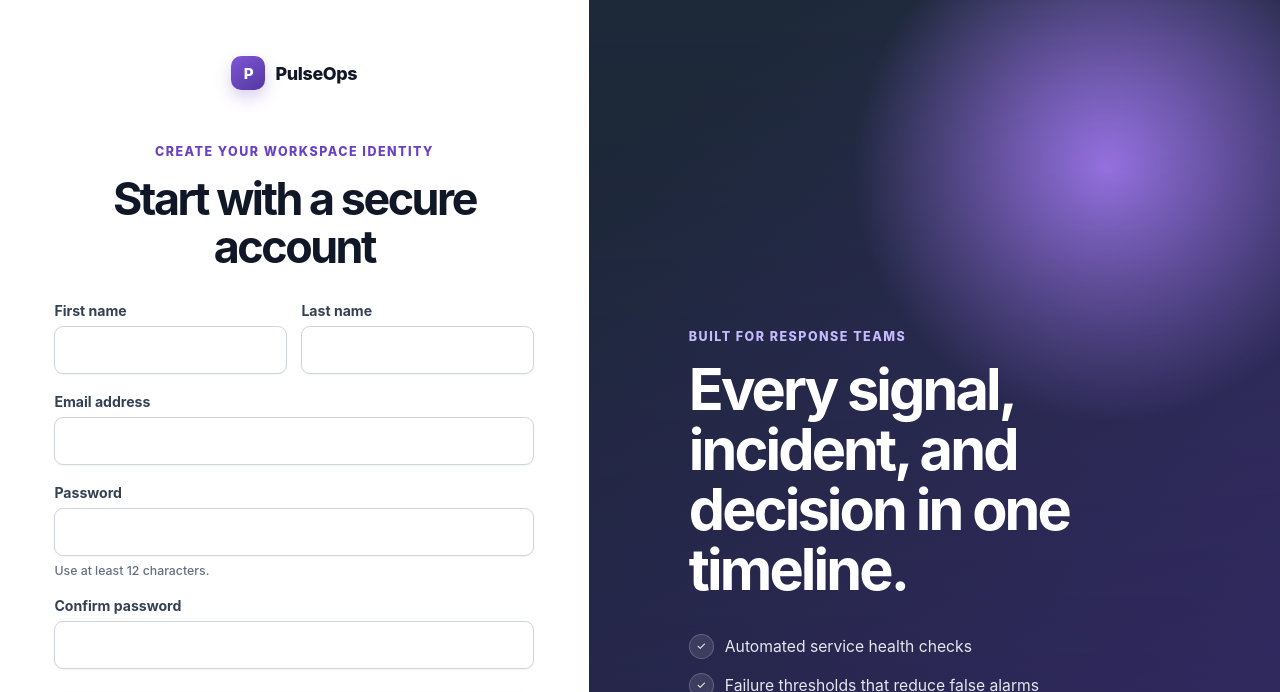
Test case: PulseOps authentication routes › validates password confirmation before registration reaches the API
Type "Ada" into the field labelled "First name". click: point(171, 350)
box: [54, 326, 287, 374]
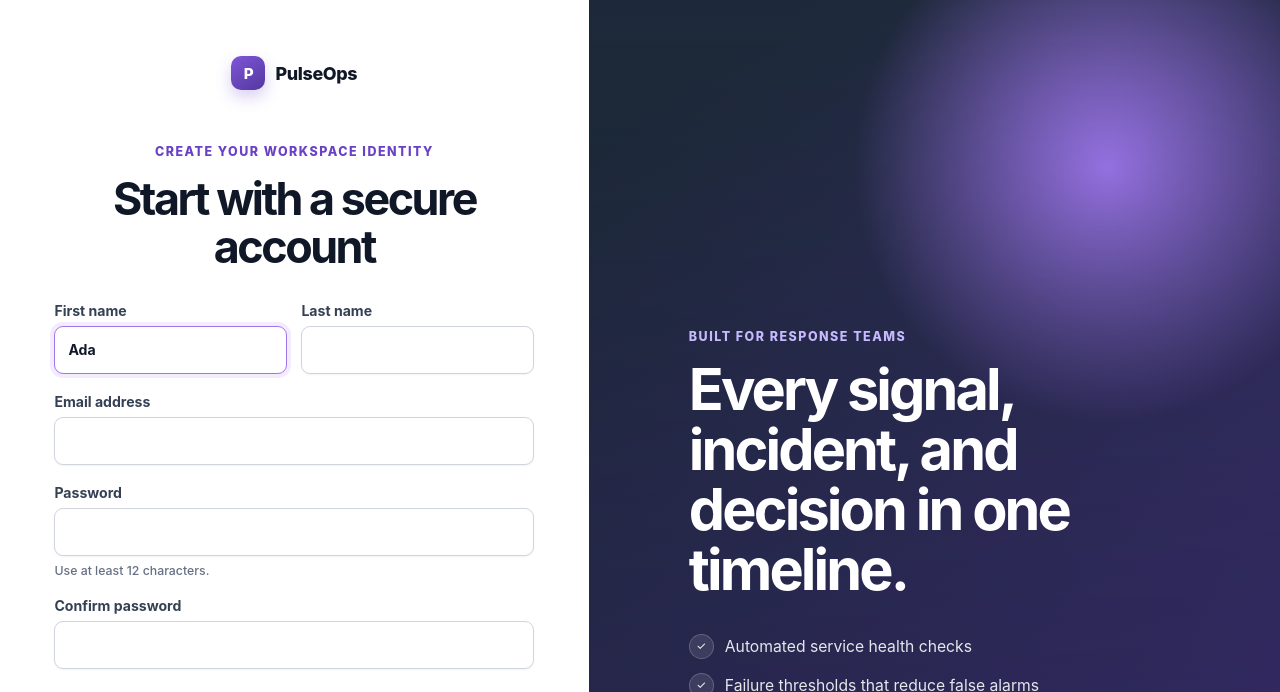
Type "Lovelace" into the field labelled "Last name". click: point(418, 350)
box: [301, 326, 534, 374]
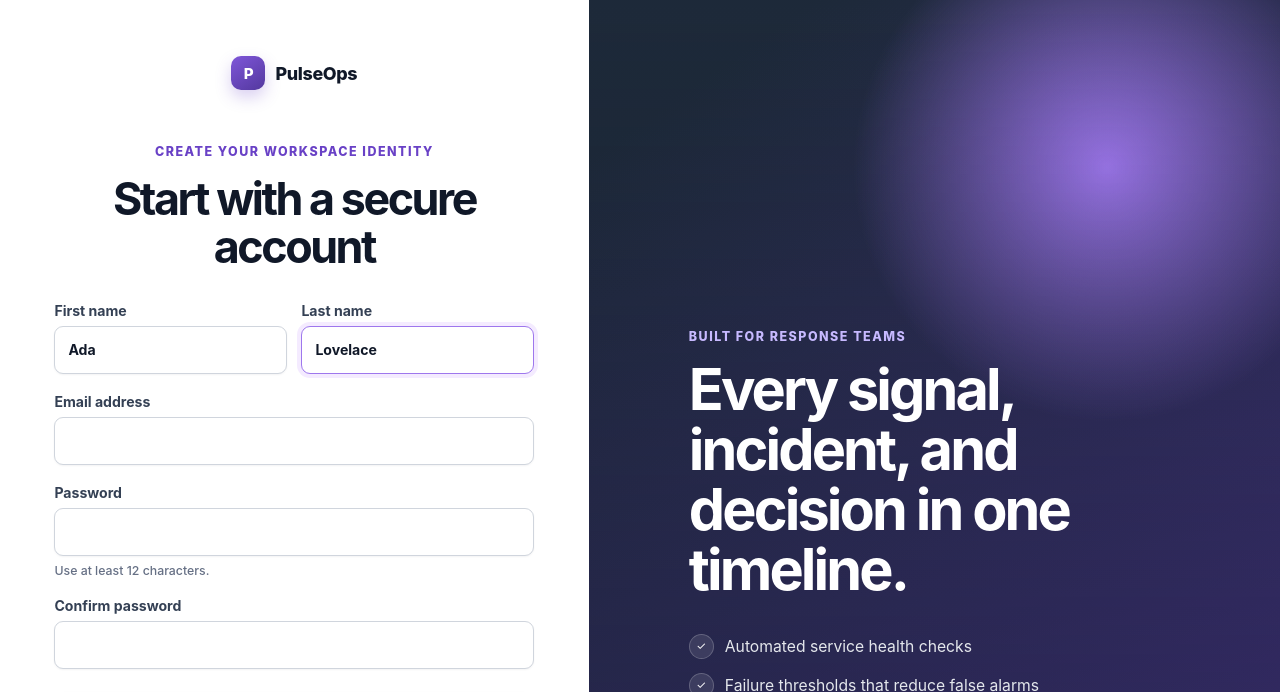
Type "ada@example.com" into the field labelled "Email address". click: point(294, 441)
box: [54, 417, 534, 465]
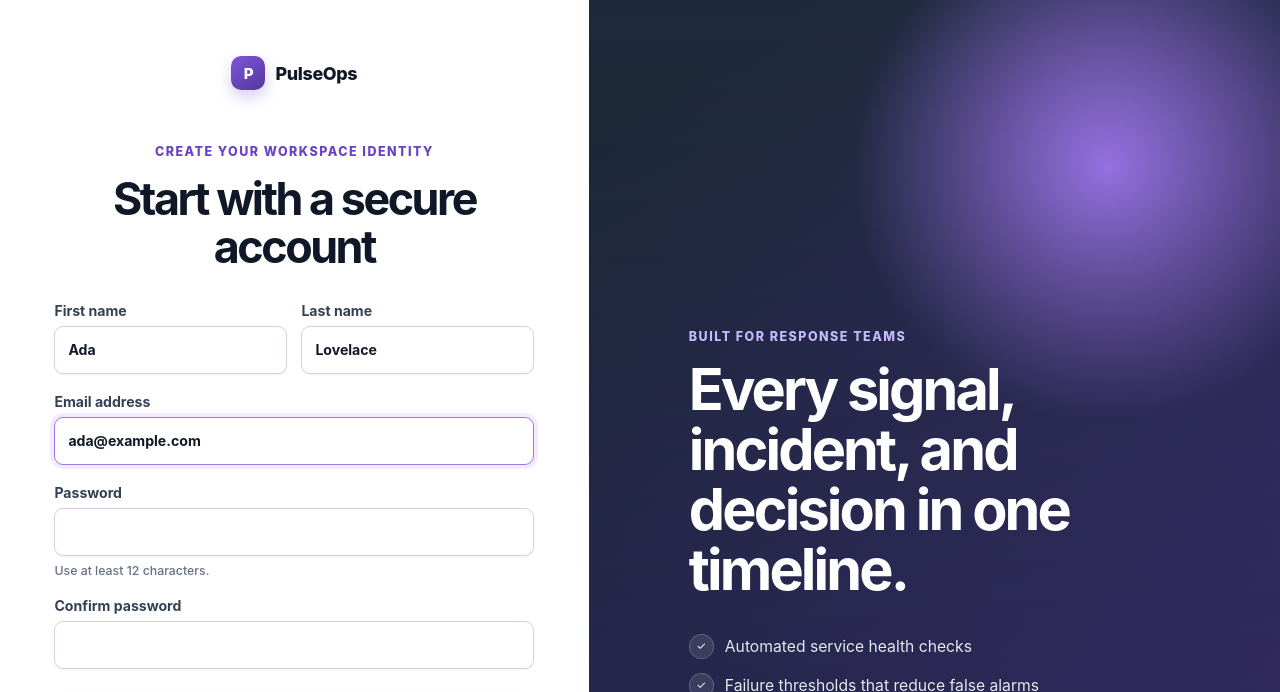
Type "Correct-Horse-42" into the password field labelled "Password Use at least 12 characters.". click: point(294, 532)
box: [54, 508, 534, 556]
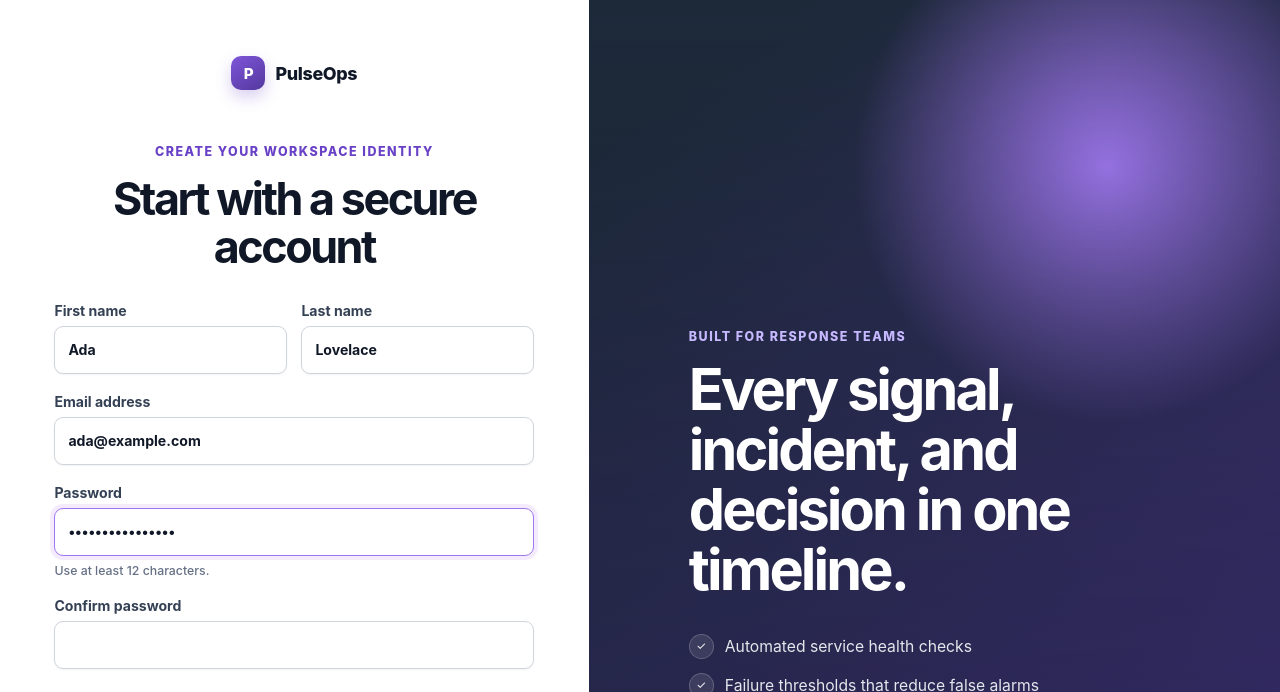
Type "Different-Horse-42" into the password field labelled "Confirm password". click: point(294, 645)
box: [54, 621, 534, 669]
(page scrolled)
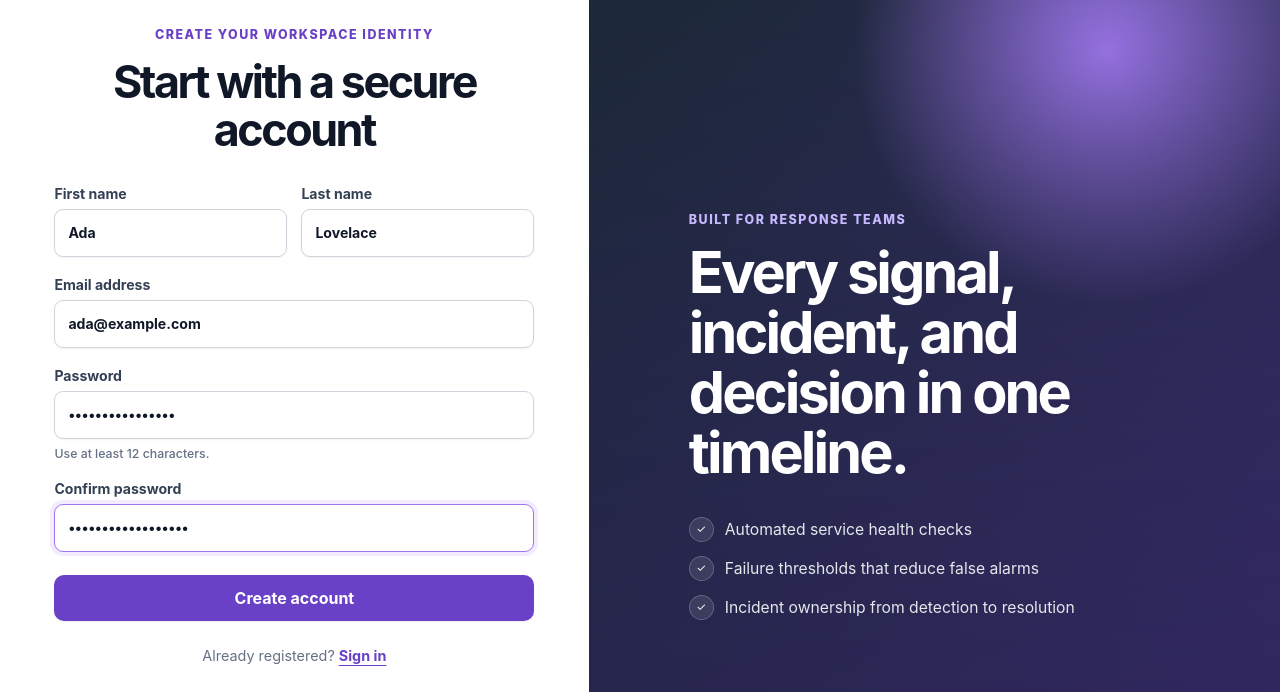
Click the button "Create account". click: point(294, 598)
box: [54, 575, 534, 621]
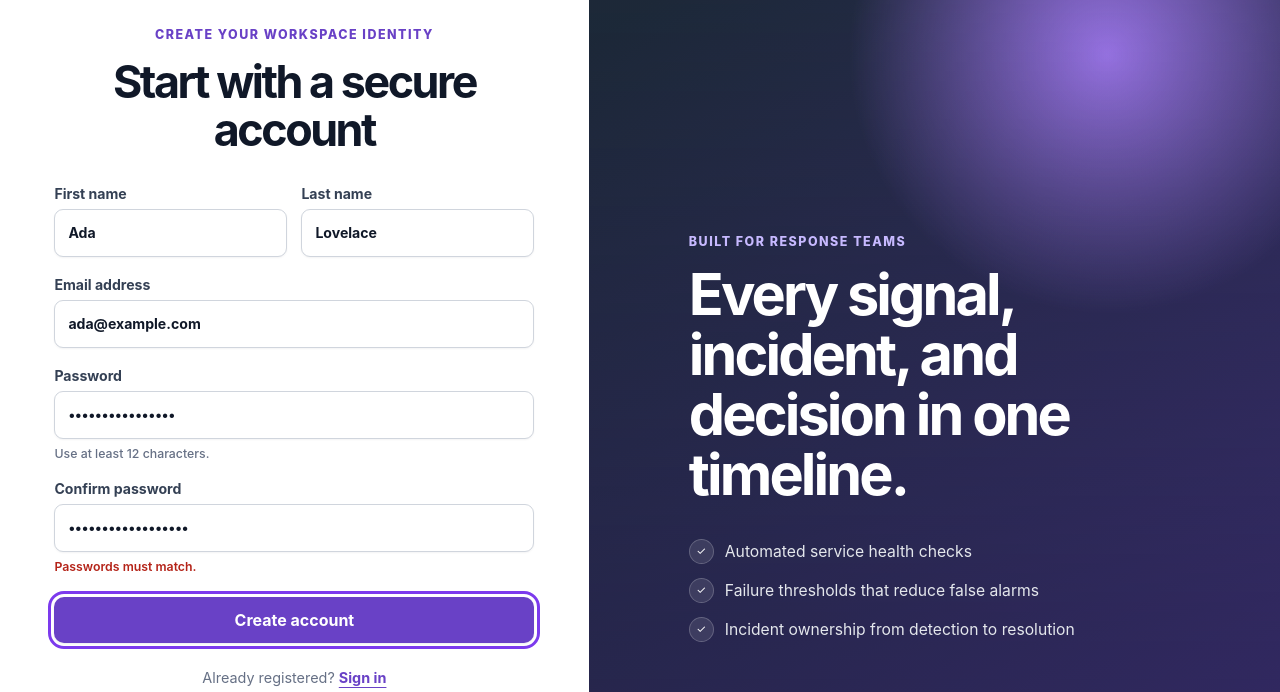
Check: the text "Passwords must match." is shown, box [54, 559, 196, 574]
